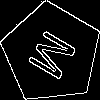M: (26, 28, 87, 87)
